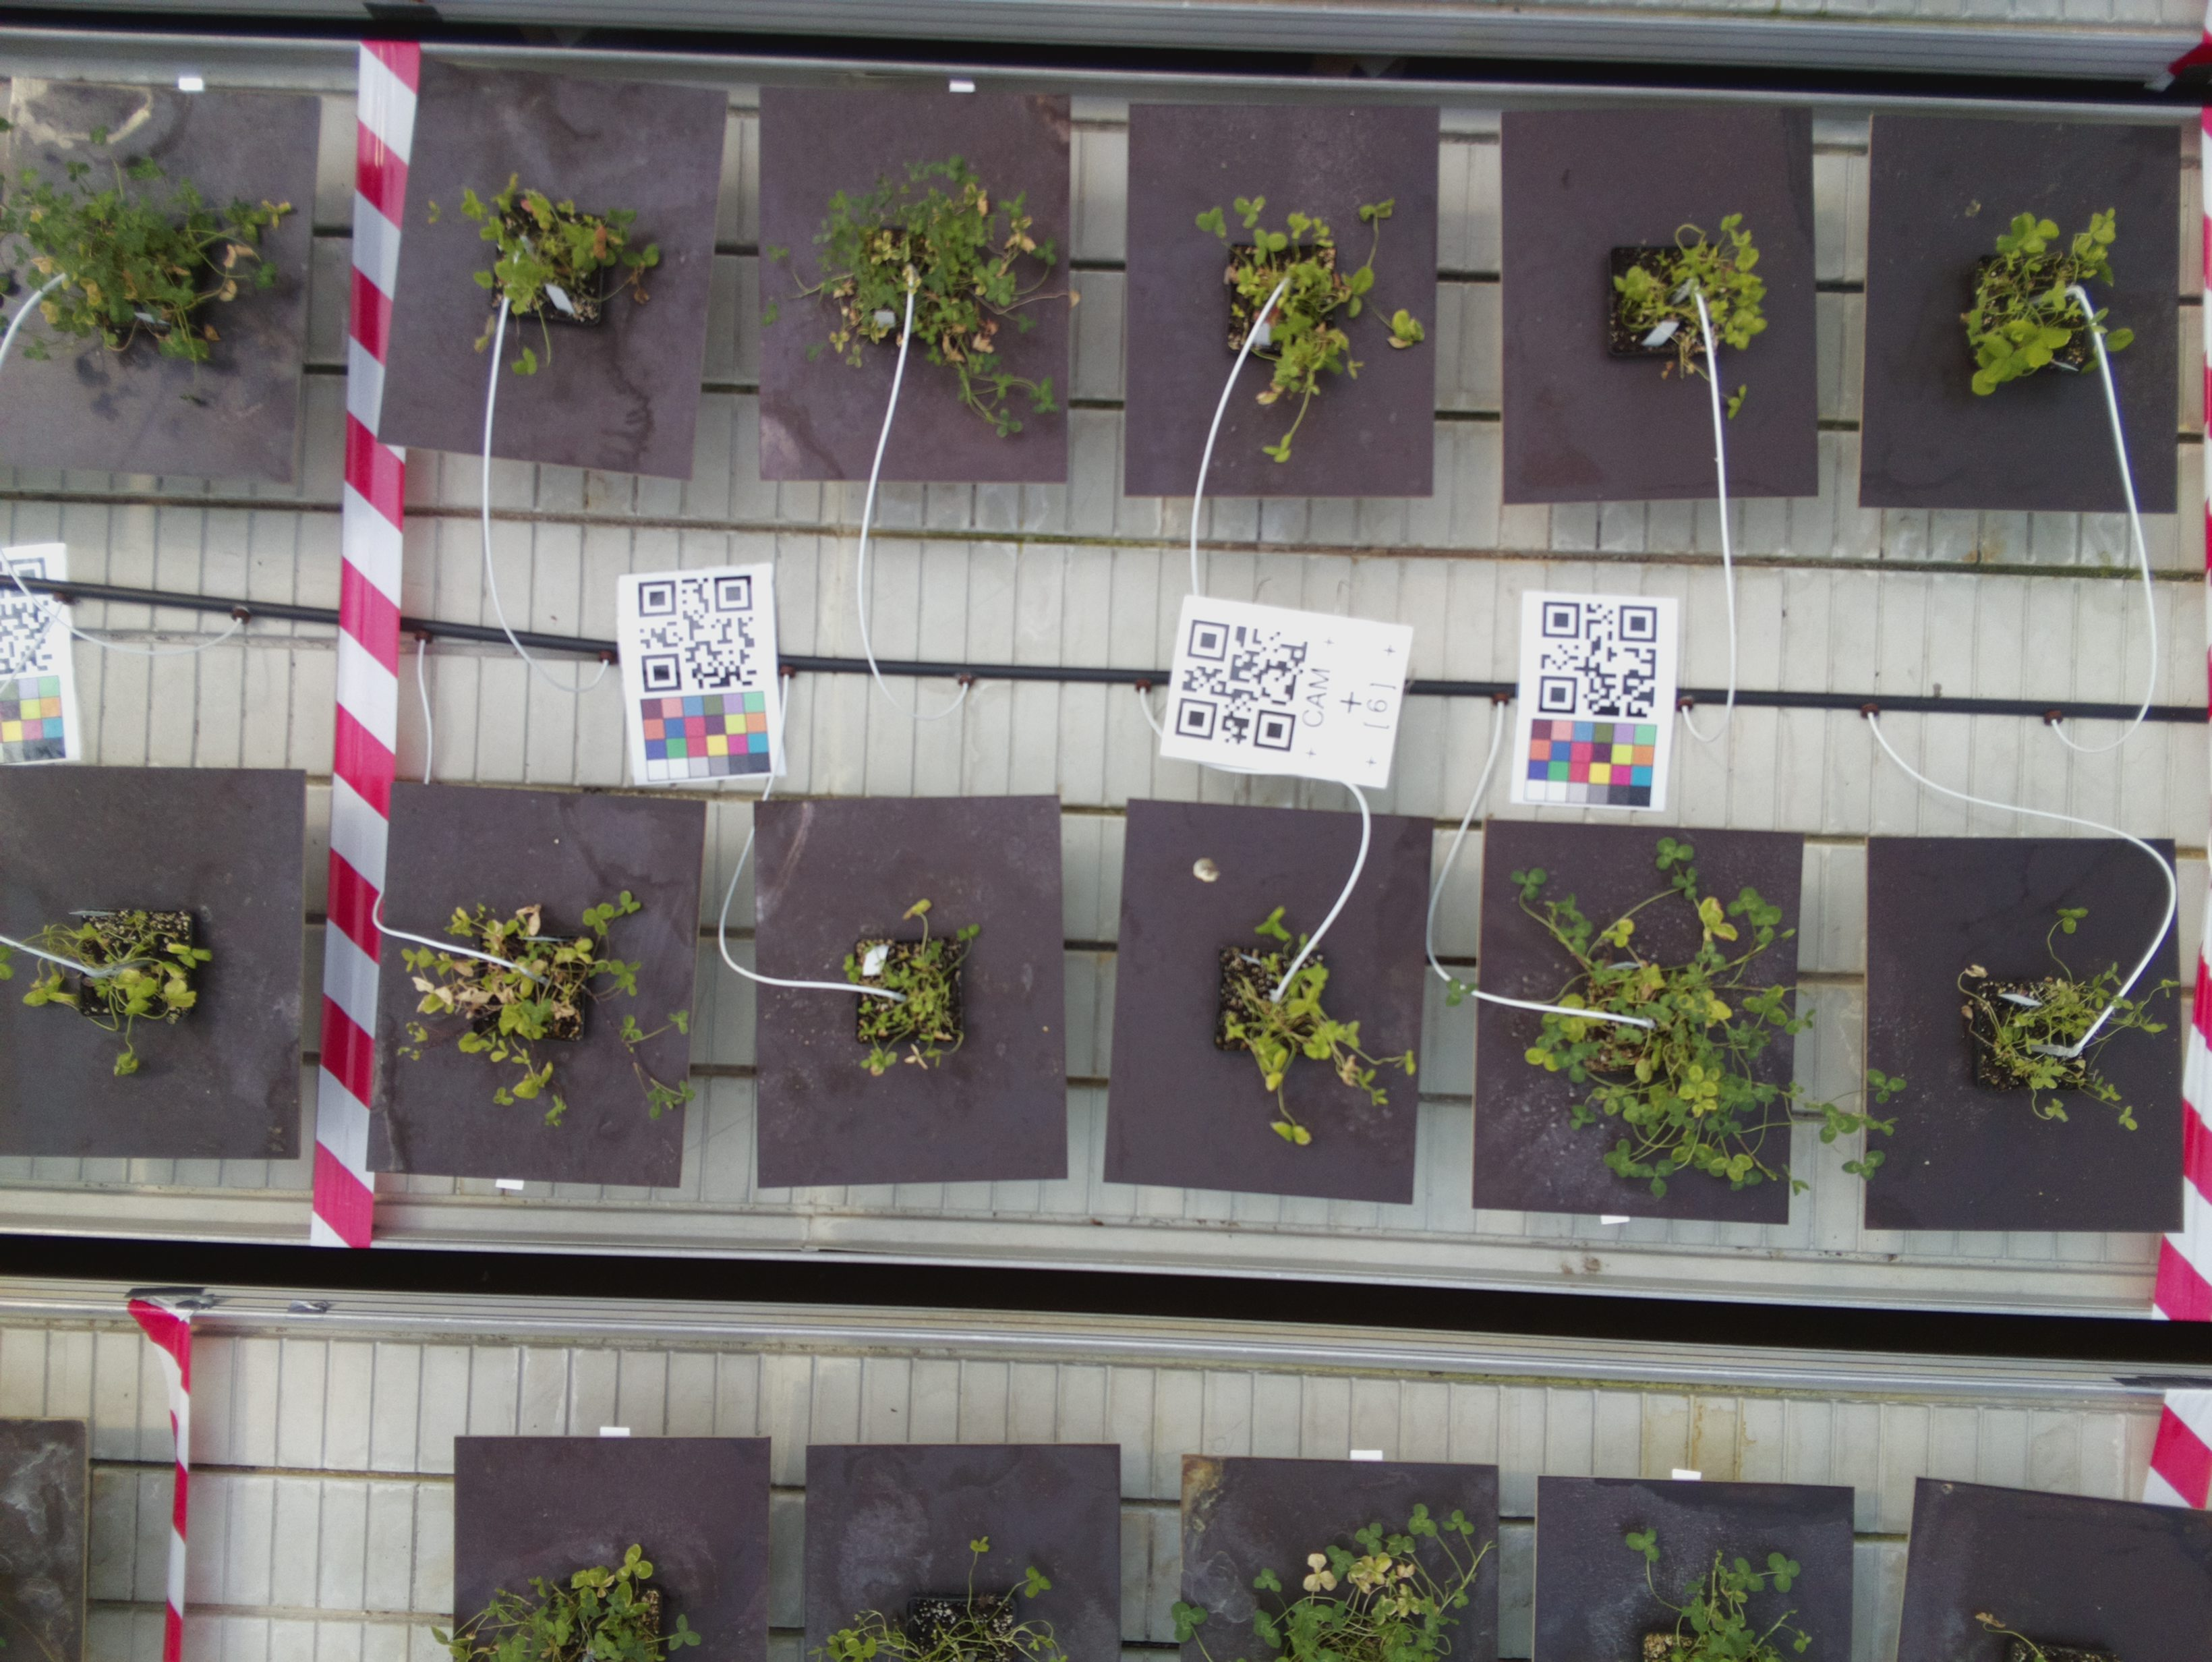POT: (389, 61, 704, 485), (754, 86, 1079, 485), (1863, 836, 2189, 1231), (1498, 108, 1826, 499), (384, 784, 691, 1192), (747, 801, 1074, 1180), (1865, 119, 2177, 508), (1482, 821, 1788, 1217), (1114, 796, 1409, 1198), (1128, 105, 1430, 492)
QRCODE: (1159, 599, 1416, 796)
QRCOLOR: (1514, 587, 1681, 810), (615, 566, 786, 780)
